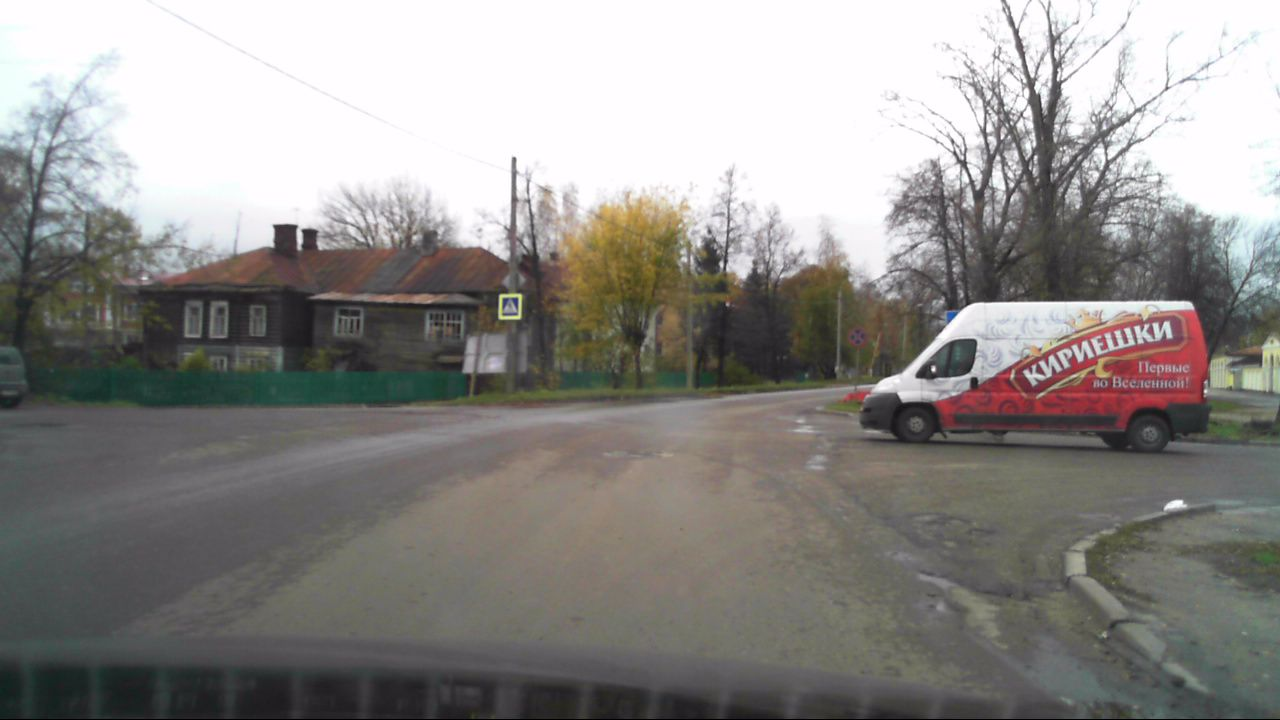No Parking: (845, 328, 864, 347)
